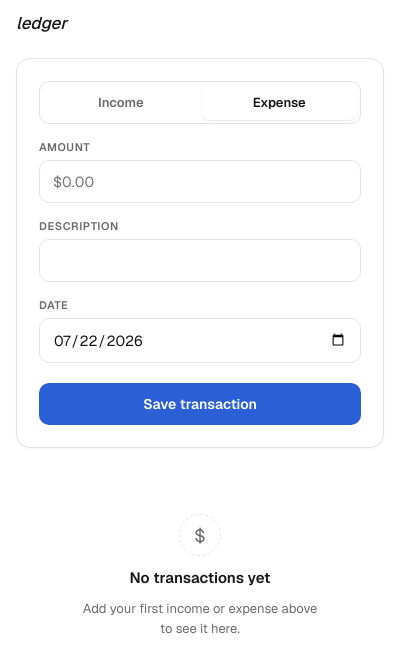
Test: Home › shows a saved transaction in the list after adding it
This screenshot has width=401, height=651.
Type "42" into the number field labelled "Amount" at (200, 182), box [39, 160, 361, 203]
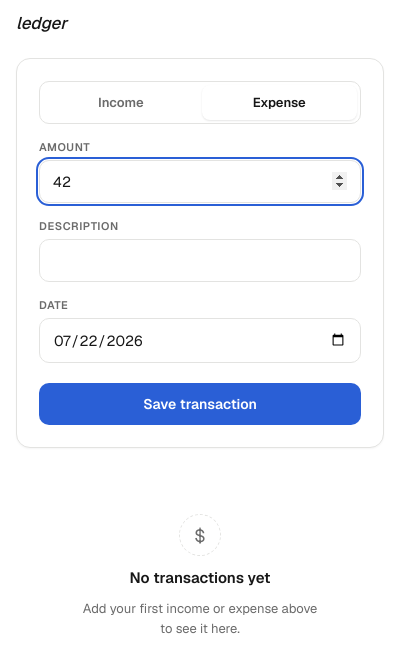
Type "Coffee" into the field labelled "Description" at (200, 260), box [39, 239, 361, 282]
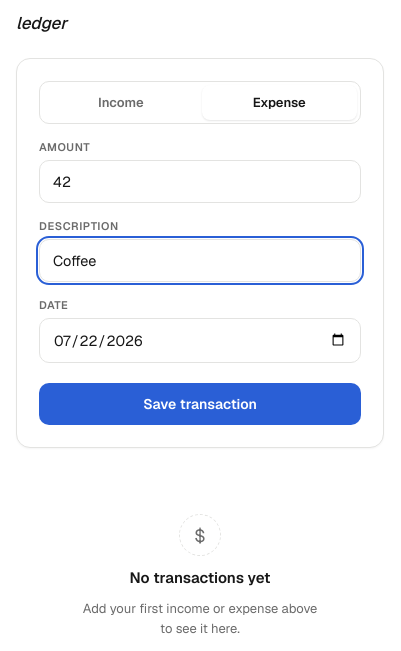
Click the button "Save transaction" at (200, 404), box [39, 383, 361, 425]
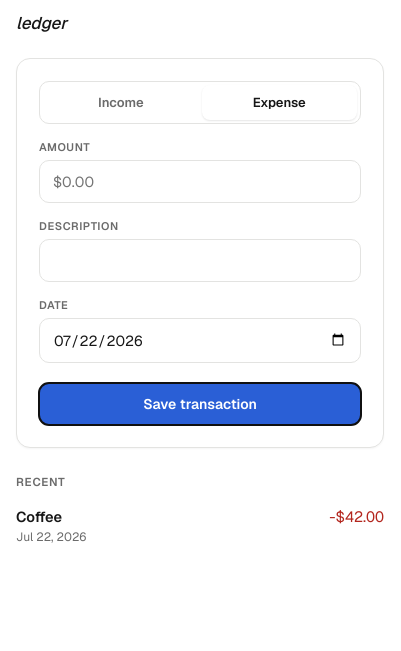
expect the text "Coffee" is shown: met, box [16, 507, 62, 526]
expect the text "-$42.00" is shown: met, box [329, 507, 384, 526]
expect the text "No transactions yet" is gone: met
